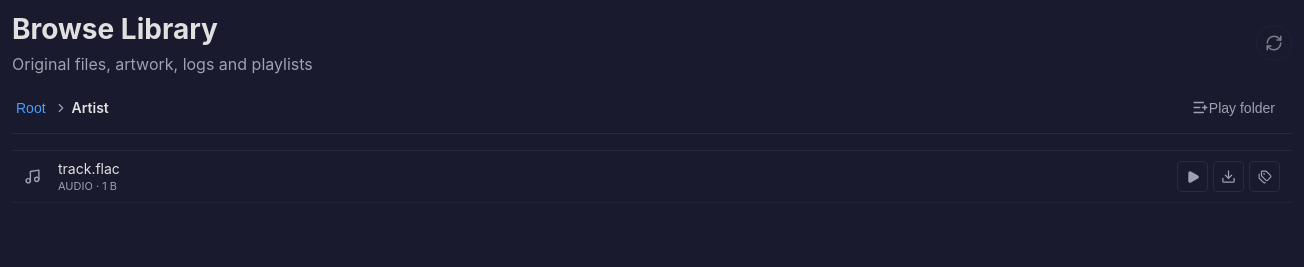
Test: BrowseView › plays the current folder from the queue front
Click the button with class "folder-play-button" at (1233, 108), box [1175, 90, 1292, 125]
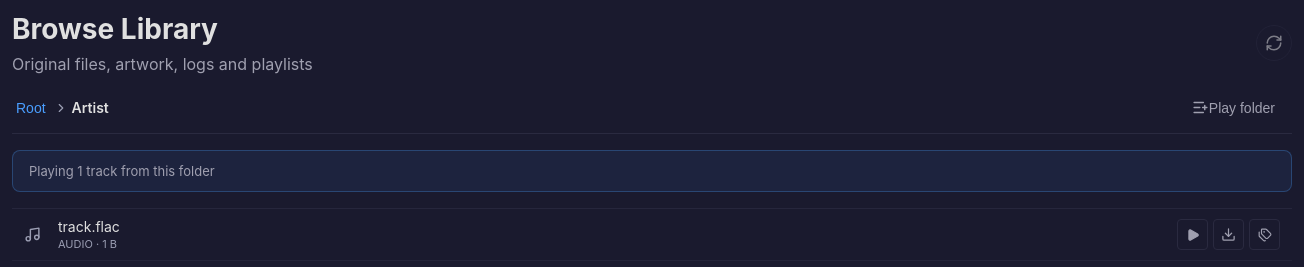
Expected: the message "Playing 1 track from this folder" is shown, [12, 150, 1292, 192]
